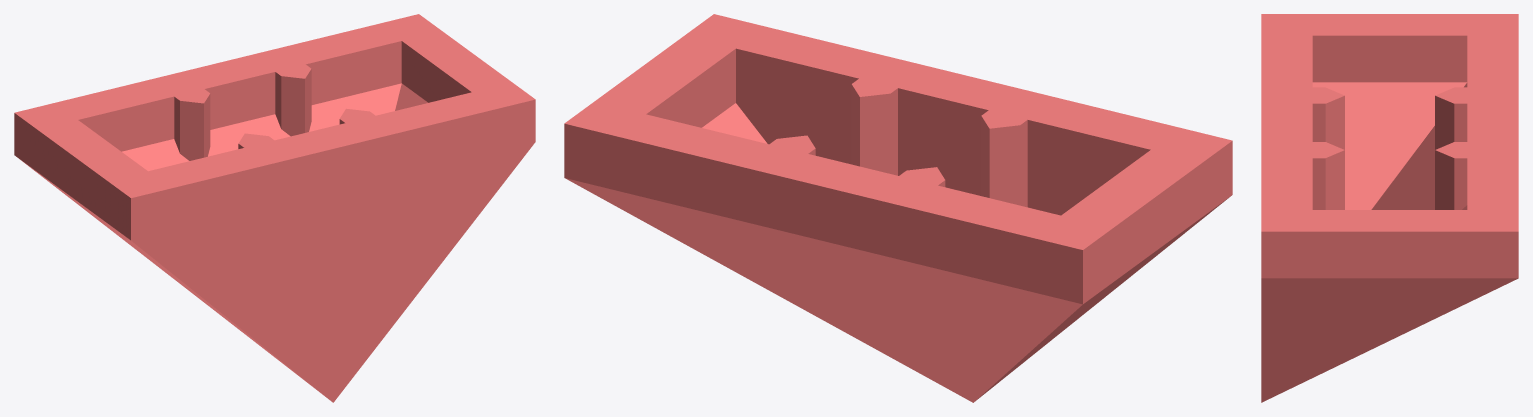
3 renders of one model, left to right at view 1: azimuth 30°, elevation 25°; view 2: azimuth 150°, elevation 25°; view 3: azimuth 270°, elevation 25°, orthographic. The views are drawn at different scales.
Parts seen in each view (by area): view 1: LDrawPart; view 2: LDrawPart; view 3: LDrawPart.
Part boxes in pixels (bbox=[...]): LDrawPart: bbox=[14, 14, 535, 402]; LDrawPart: bbox=[564, 14, 1232, 402]; LDrawPart: bbox=[1261, 14, 1518, 402].
Size of the model in its own units: 0.28 by 0.168 by 0.14.
